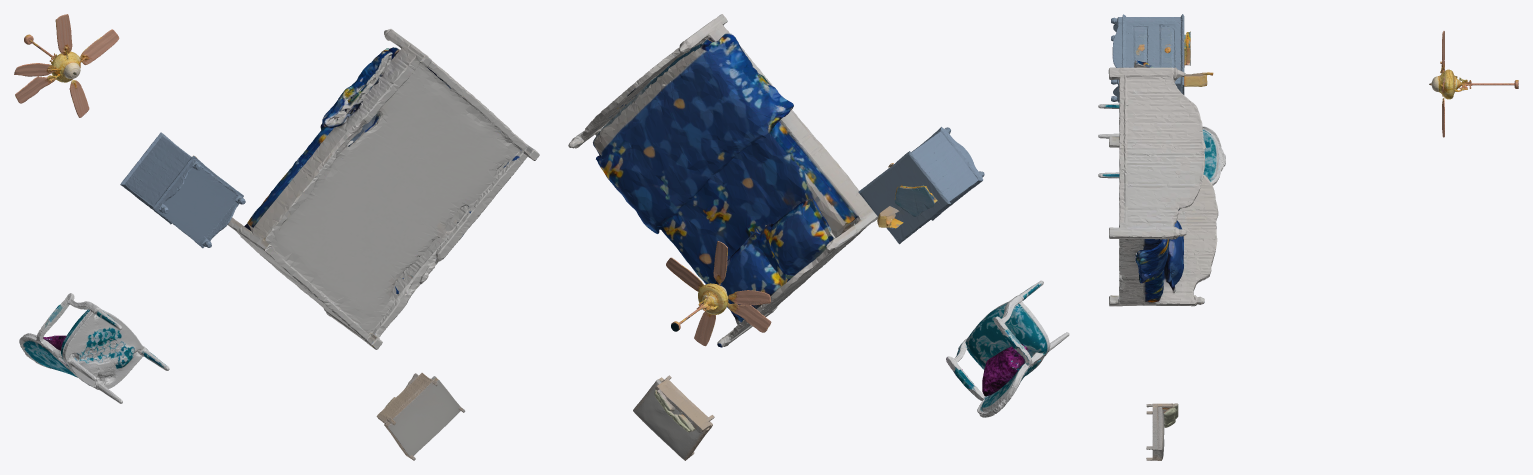
3 renders of one model, left to right at view 1: azimuth 30°, elevation 25°; view 2: azimuth 150°, elevation 25°; view 3: azimuth 270°, elevation 25°, orthographic. The views are drawn at different scales.
Visible parts, largest first — view 1: scene_0000021_object_2_textured_scene_0000021_object_2_textu, scene_0000021_object_1_textured_scene_0000021_object_1_textu, scene_0000021_object_0_textured_scene_0000021_object_0_textu, scene_0000021_object_4_textured_scene_0000021_object_4_textu, scene_0000021_object_3_textured_scene_0000021_object_3_textu; view 2: scene_0000021_object_2_textured_scene_0000021_object_2_textu, scene_0000021_object_1_textured_scene_0000021_object_1_textu, scene_0000021_object_0_textured_scene_0000021_object_0_textu, scene_0000021_object_3_textured_scene_0000021_object_3_textu, scene_0000021_object_4_textured_scene_0000021_object_4_textu; view 3: scene_0000021_object_2_textured_scene_0000021_object_2_textu, scene_0000021_object_1_textured_scene_0000021_object_1_textu, scene_0000021_object_0_textured_scene_0000021_object_0_textu, scene_0000021_object_3_textured_scene_0000021_object_3_textu, scene_0000021_object_4_textured_scene_0000021_object_4_textu.
Boxes of the visible parts, x1,y1,x2,y2 form: scene_0000021_object_2_textured_scene_0000021_object_2_textu: (228,29,539,349); scene_0000021_object_1_textured_scene_0000021_object_1_textu: (120,132,245,248); scene_0000021_object_0_textured_scene_0000021_object_0_textu: (19,293,169,403); scene_0000021_object_4_textured_scene_0000021_object_4_textu: (376,372,465,460); scene_0000021_object_3_textured_scene_0000021_object_3_textu: (14,14,119,117); scene_0000021_object_2_textured_scene_0000021_object_2_textu: (568,14,878,347); scene_0000021_object_1_textured_scene_0000021_object_1_textu: (858,127,984,244); scene_0000021_object_0_textured_scene_0000021_object_0_textu: (946,280,1069,417); scene_0000021_object_3_textured_scene_0000021_object_3_textu: (666,241,771,346); scene_0000021_object_4_textured_scene_0000021_object_4_textu: (633,375,714,460); scene_0000021_object_2_textured_scene_0000021_object_2_textu: (1108,60,1218,306); scene_0000021_object_1_textured_scene_0000021_object_1_textu: (1111,14,1213,102); scene_0000021_object_0_textured_scene_0000021_object_0_textu: (1098,103,1225,185); scene_0000021_object_3_textured_scene_0000021_object_3_textu: (1429,31,1518,137); scene_0000021_object_4_textured_scene_0000021_object_4_textu: (1146,403,1178,460).
Size of the model in its own units: 3.82 by 3.33 by 3.26.
5 materials, 5 textured.
